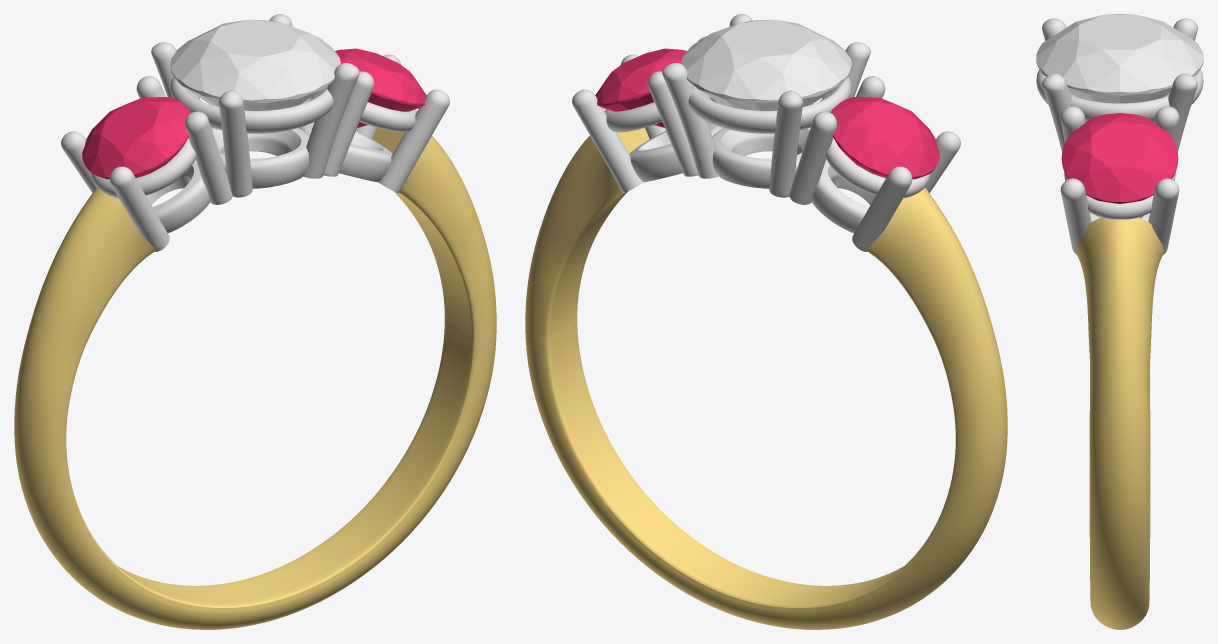
The model's file is GeorgeENGptyg.glb.
The picture shows the model from 3 angles, left to right: view 1: azimuth 30°, elevation 25°; view 2: azimuth 150°, elevation 25°; view 3: azimuth 270°, elevation 25°; orthographic projection.
Parts seen in each view (by area): view 1: George YG for 3d model, George PT for 3d model, George dia for 3d model, George ruby for 3d model; view 2: George YG for 3d model, George PT for 3d model, George dia for 3d model, George ruby for 3d model; view 3: George YG for 3d model, George dia for 3d model, George PT for 3d model, George ruby for 3d model.
Part boxes in pixels (bbox=[...]): George YG for 3d model: bbox=[14, 128, 496, 629]; George PT for 3d model: bbox=[61, 14, 449, 251]; George dia for 3d model: bbox=[170, 19, 340, 110]; George ruby for 3d model: bbox=[82, 48, 426, 179]; George YG for 3d model: bbox=[525, 128, 1007, 629]; George PT for 3d model: bbox=[572, 14, 960, 251]; George dia for 3d model: bbox=[681, 19, 851, 110]; George ruby for 3d model: bbox=[595, 48, 939, 179]; George YG for 3d model: bbox=[1075, 217, 1164, 629]; George dia for 3d model: bbox=[1036, 14, 1203, 103]; George PT for 3d model: bbox=[1036, 18, 1203, 254]; George ruby for 3d model: bbox=[1061, 113, 1178, 203].
Size of the model in its own units: 22.18 by 26.01 by 6.9.
